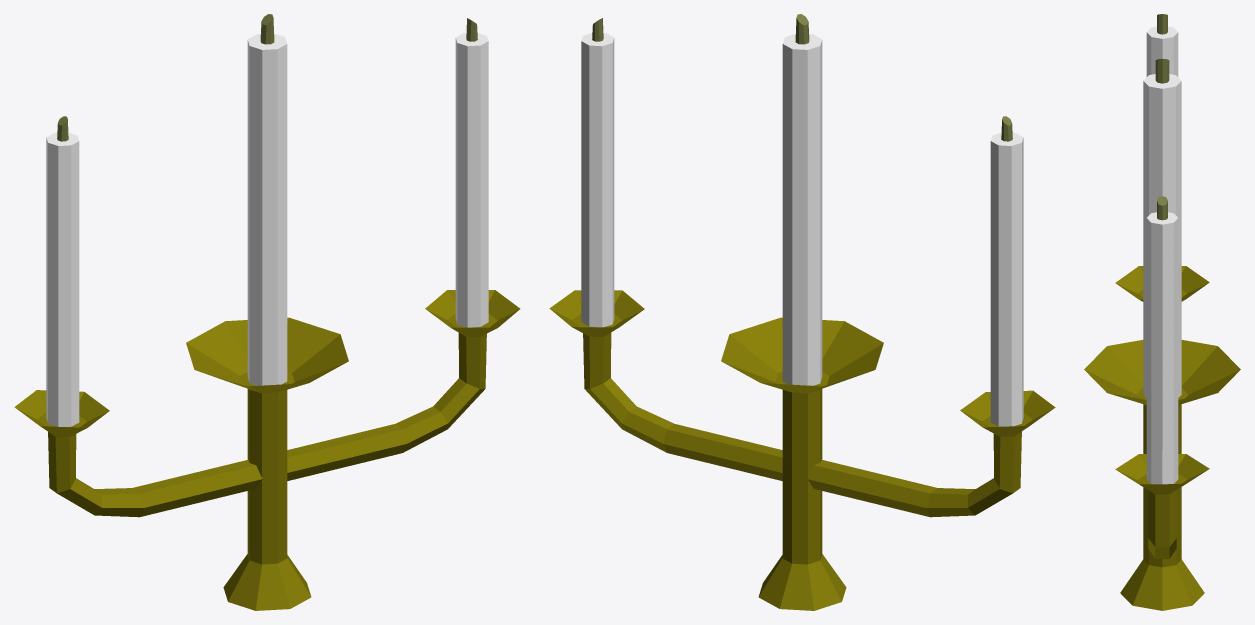
The model's file is Candles_02.fbx.
The picture shows the model from 3 angles, left to right: view 1: azimuth 30°, elevation 25°; view 2: azimuth 150°, elevation 25°; view 3: azimuth 270°, elevation 25°; orthographic projection. The views are drawn at different scales.
Parts seen in each view (by area): view 1: Candles_02; view 2: Candles_02; view 3: Candles_02.
Part boxes in pixels (bbox=[...]): Candles_02: bbox=[14, 14, 520, 610]; Candles_02: bbox=[549, 14, 1055, 610]; Candles_02: bbox=[1084, 14, 1240, 610].
Size of the model in its own units: 171 by 197 by 52.13.
